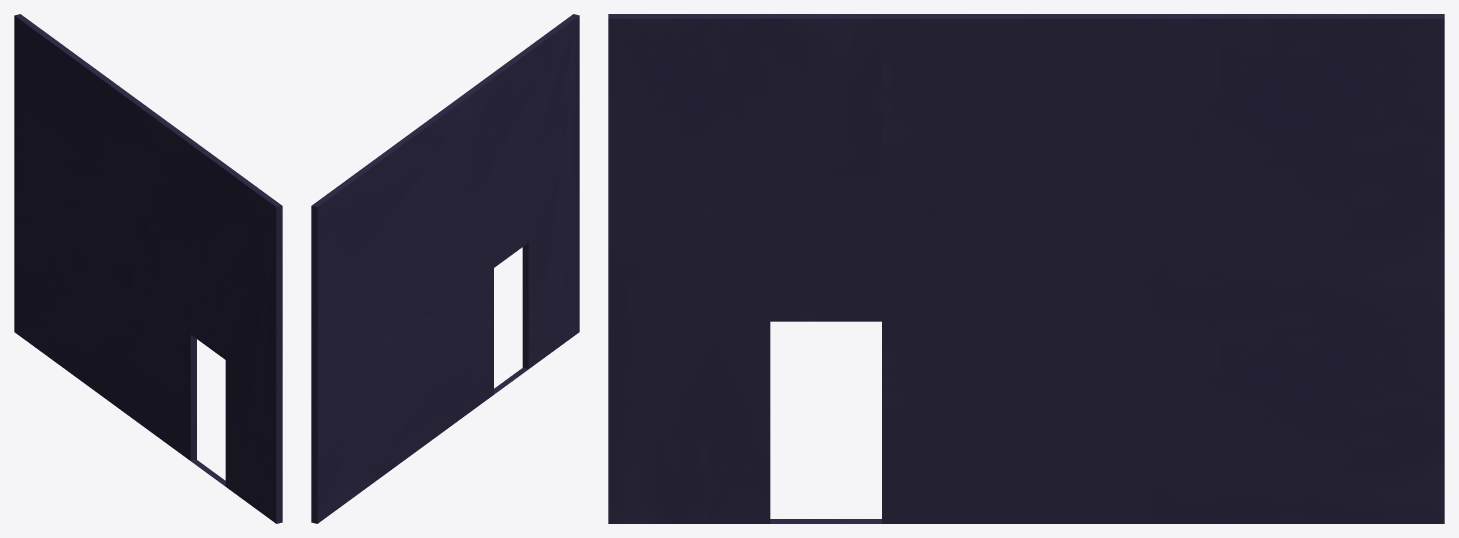
File: wallLinks.fbx
The picture shows the model from 3 angles, left to right: view 1: azimuth 30°, elevation 25°; view 2: azimuth 150°, elevation 25°; view 3: azimuth 270°, elevation 25°; orthographic projection. The views are drawn at different scales.
Parts seen in each view (by area): view 1: wall.002; view 2: wall.002; view 3: wall.002.
Boxes of the visible parts, <box> form: wall.002: <box>14,14,282,523</box>; wall.002: <box>311,14,579,523</box>; wall.002: <box>608,14,1444,523</box>.
Size of the model in its own units: 10 by 500 by 750.
